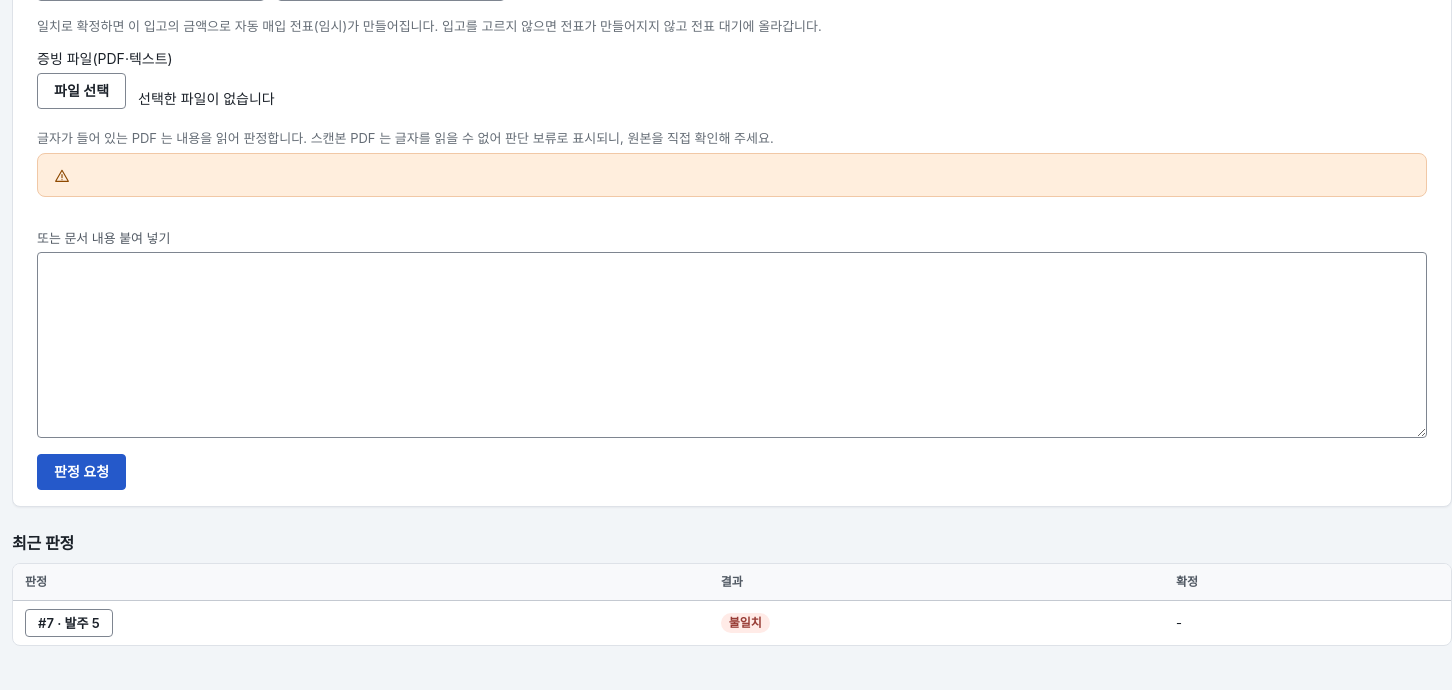
it: 문서 검증 화면 › 재무에게는 최종 확정 양식이 보이고 확정 결과가 반영된다
Click the button "#7 · 발주 5" at (69, 622), box 25,608 -> 113,636
(page scrolled)
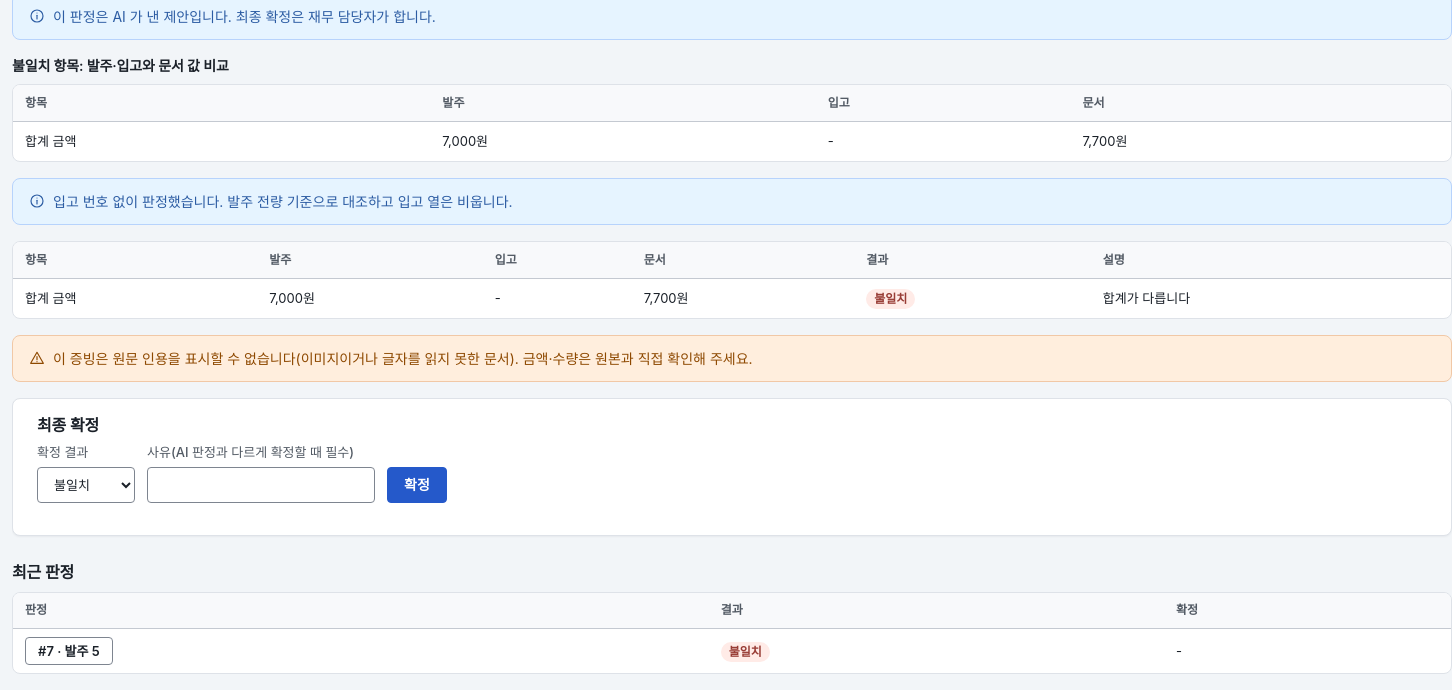
Click the button "확정" at (417, 484), box 387,466 -> 447,502
(page scrolled)
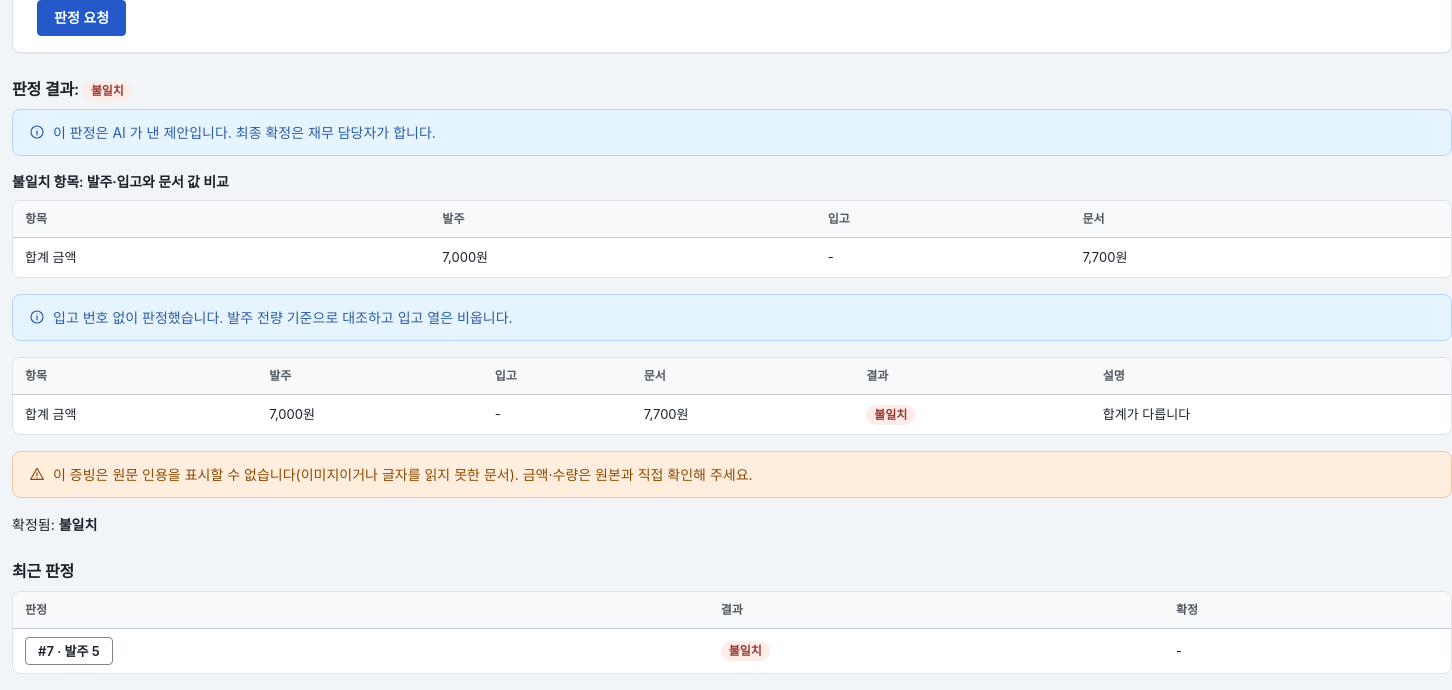
Expected: the text "확정됨: 불일치" is shown, 12,516 -> 97,533
